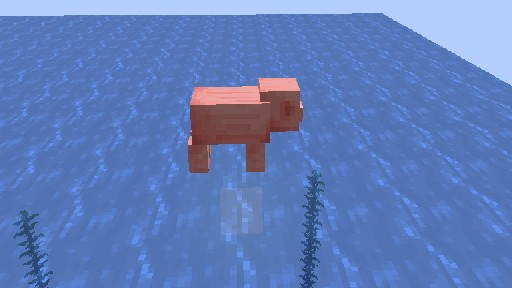pig: (187, 76, 303, 173)
